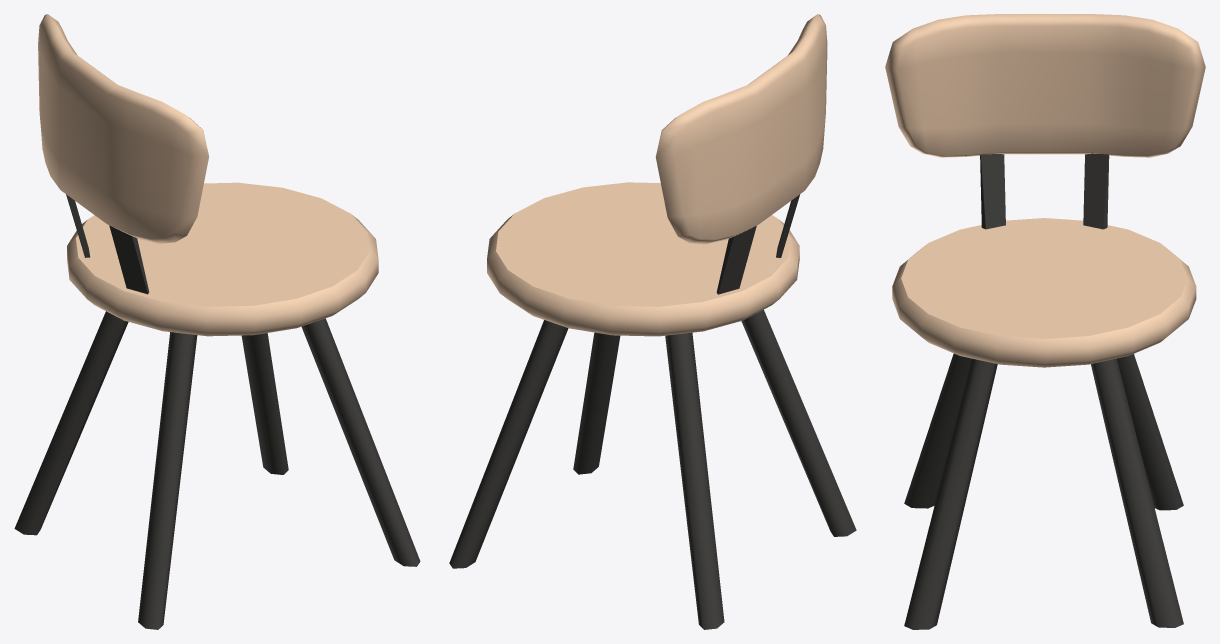
File: Chair_Toddler_2_Mesh.fbx
3 renders of one model, left to right at view 1: azimuth 30°, elevation 25°; view 2: azimuth 150°, elevation 25°; view 3: azimuth 270°, elevation 25°, orthographic. The views are drawn at different scales.
Visible parts, largest first — view 1: Chair2; view 2: Chair2; view 3: Chair2.
Boxes of the visible parts, x1,y1,x2,y2 form: Chair2: (14, 14, 420, 629); Chair2: (449, 14, 856, 629); Chair2: (885, 14, 1205, 629).
Size of the model in its own units: 30.66 by 53.24 by 31.28.
